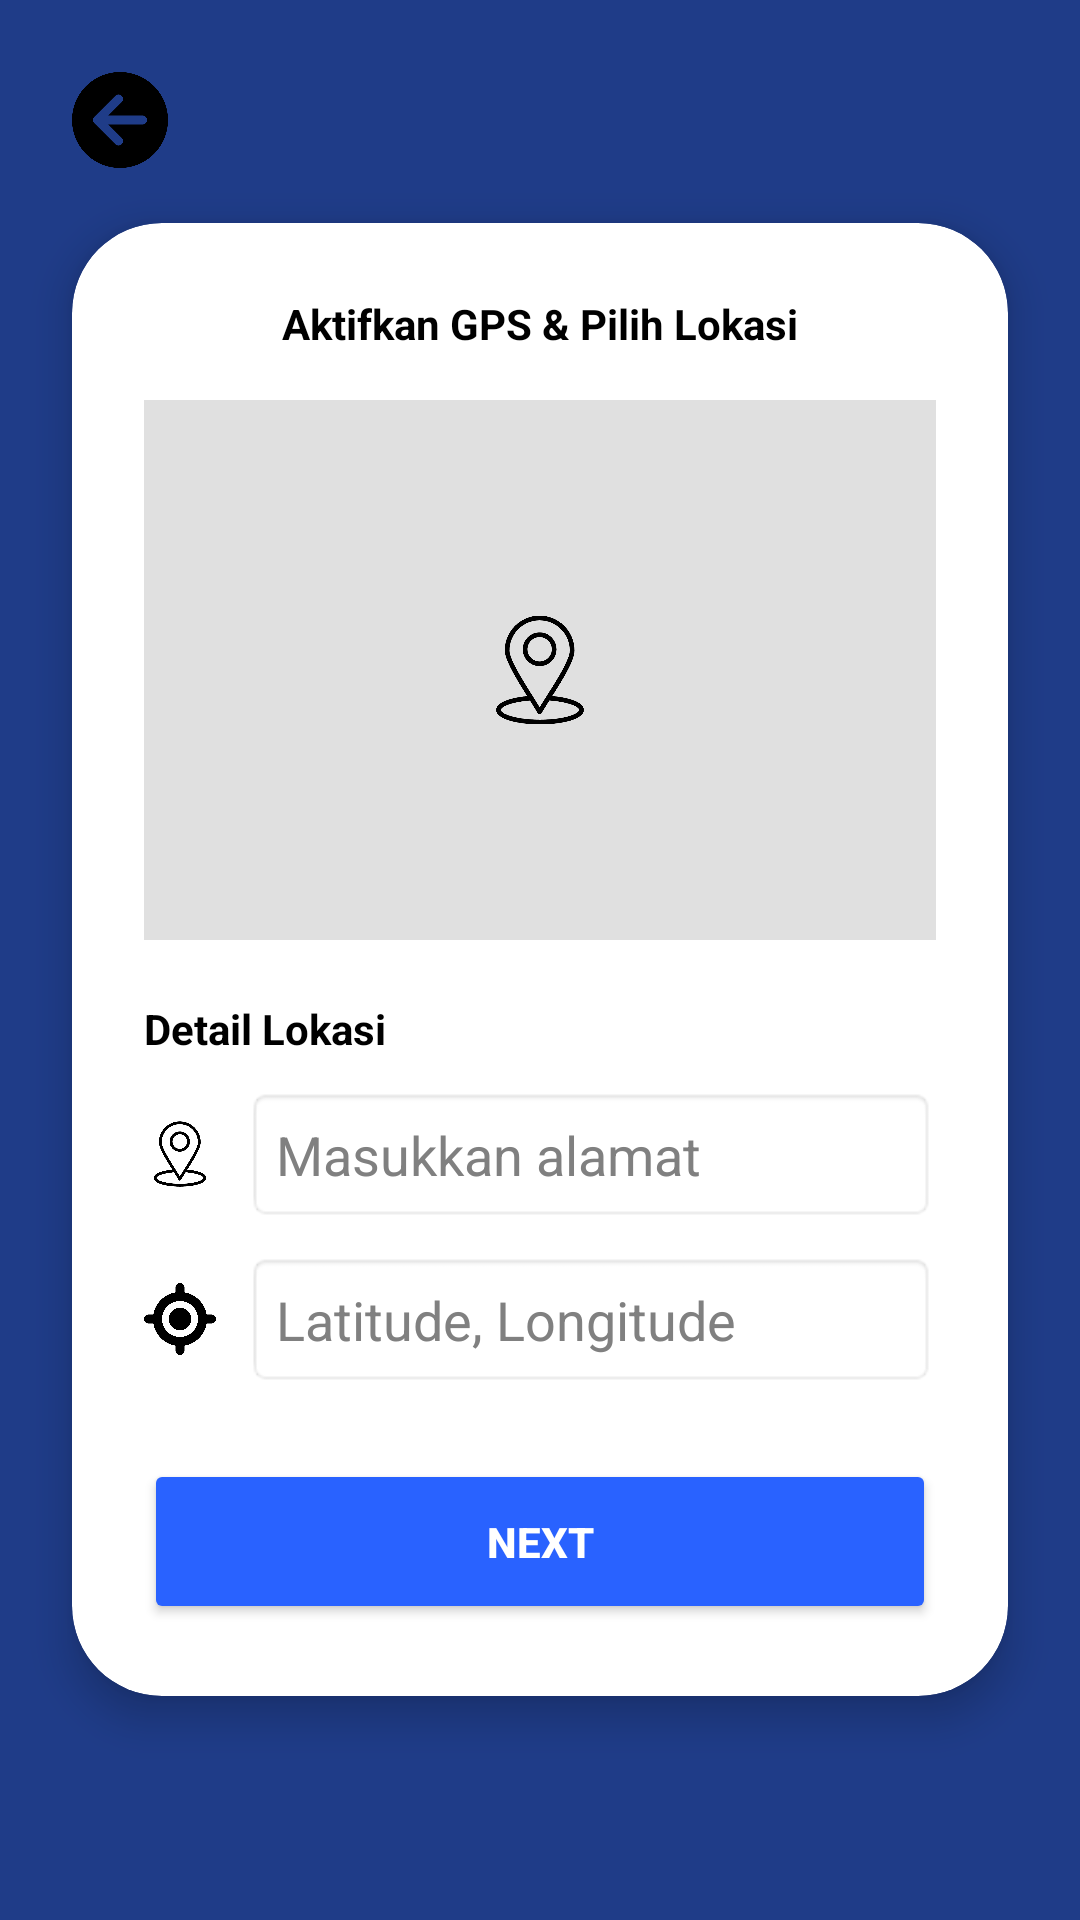

Icon click points for this 1080*1920 phone screenshot, format [x,y]:
location: [540,670], [180,1154]
